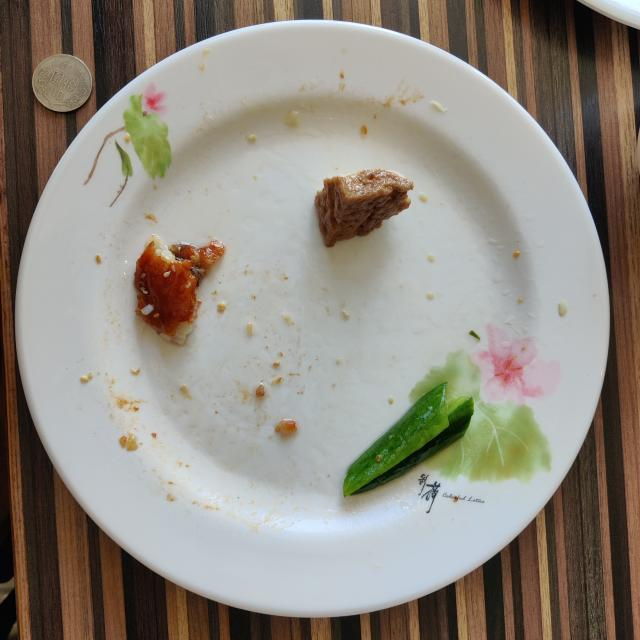Kabayaki sea bream fillet: (135, 235, 225, 344)
coin: (32, 54, 92, 112)
cucumber: (344, 382, 474, 496)
egg tofu: (315, 169, 414, 246)
